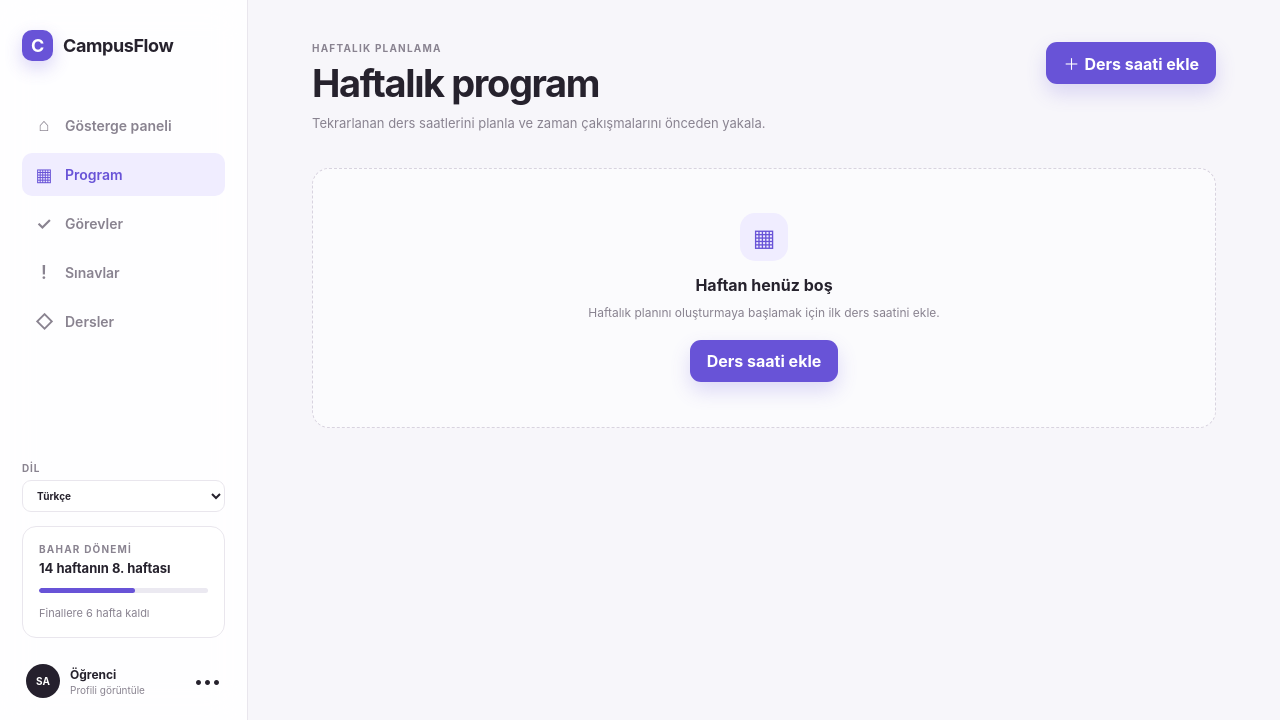
CampusFlow web application › shows a localized schedule conflict error
Expected: the text "Haftan henüz boş" is shown, 695,275 -> 833,295
What coordinates should you click on to do the following:
click the button "Ders saati ekle"
I would click on:
 (764, 361)
Its box is 690,340 -> 838,382.
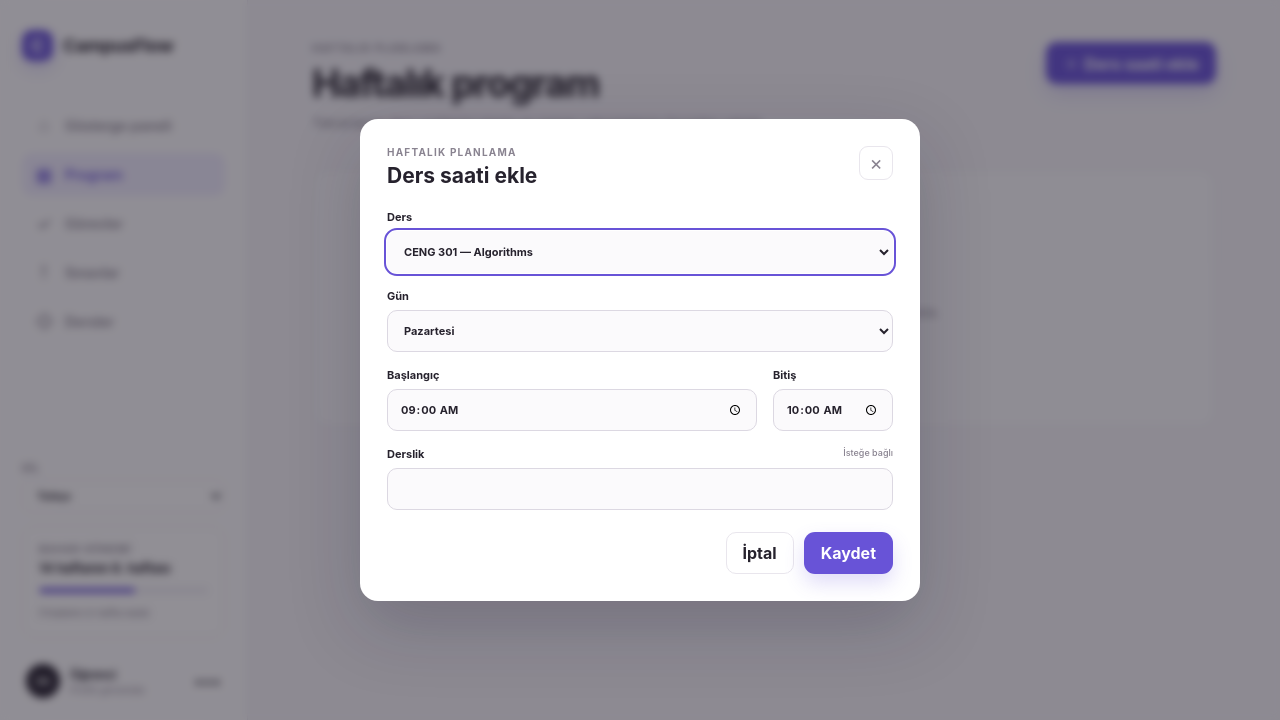
What coordinates should you click on to do the following:
click the button "Kaydet"
I would click on:
 (848, 553)
Its box is 804,532 -> 893,574.
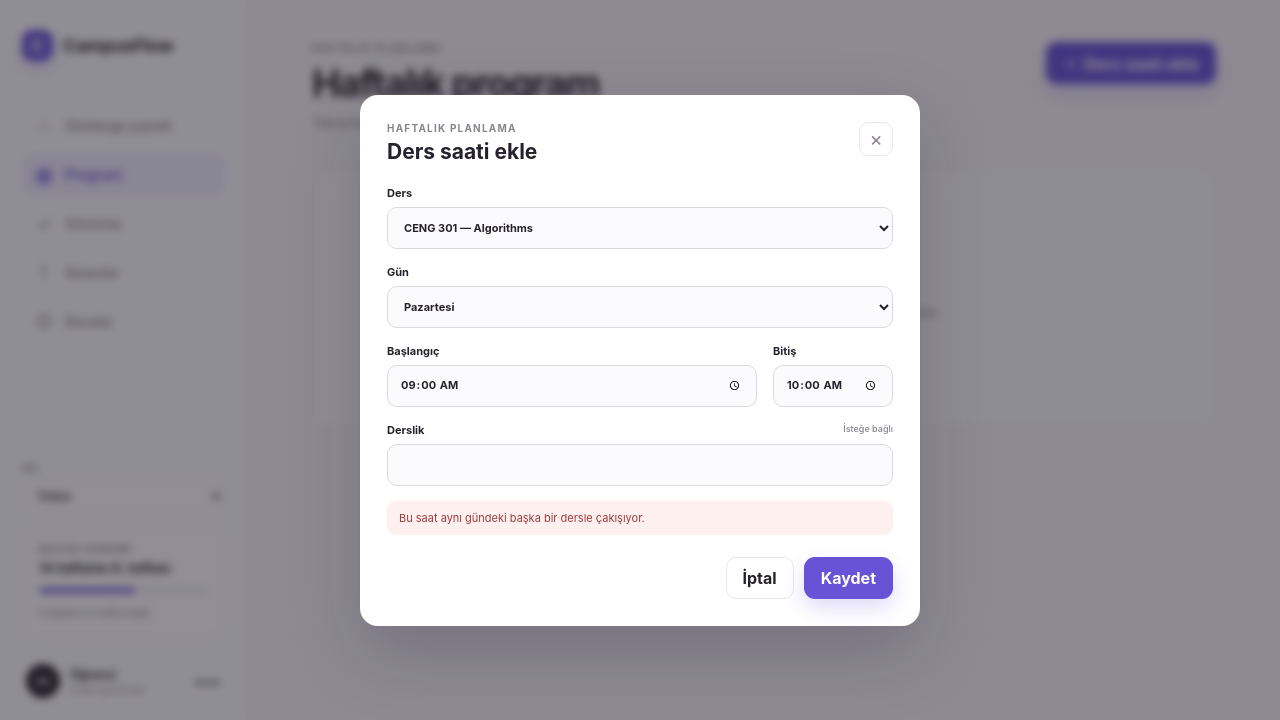
Expected: the message reads "Bu saat aynı gündeki başka bir dersle çakışıyor.", 399,510 -> 645,524
